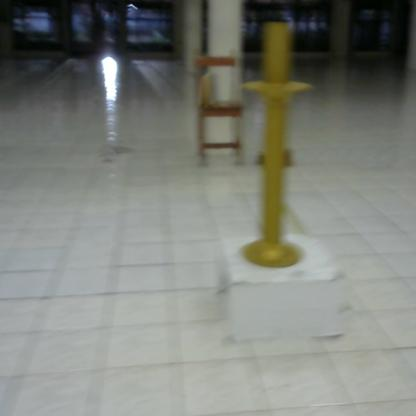pole: (240, 19, 317, 269)
